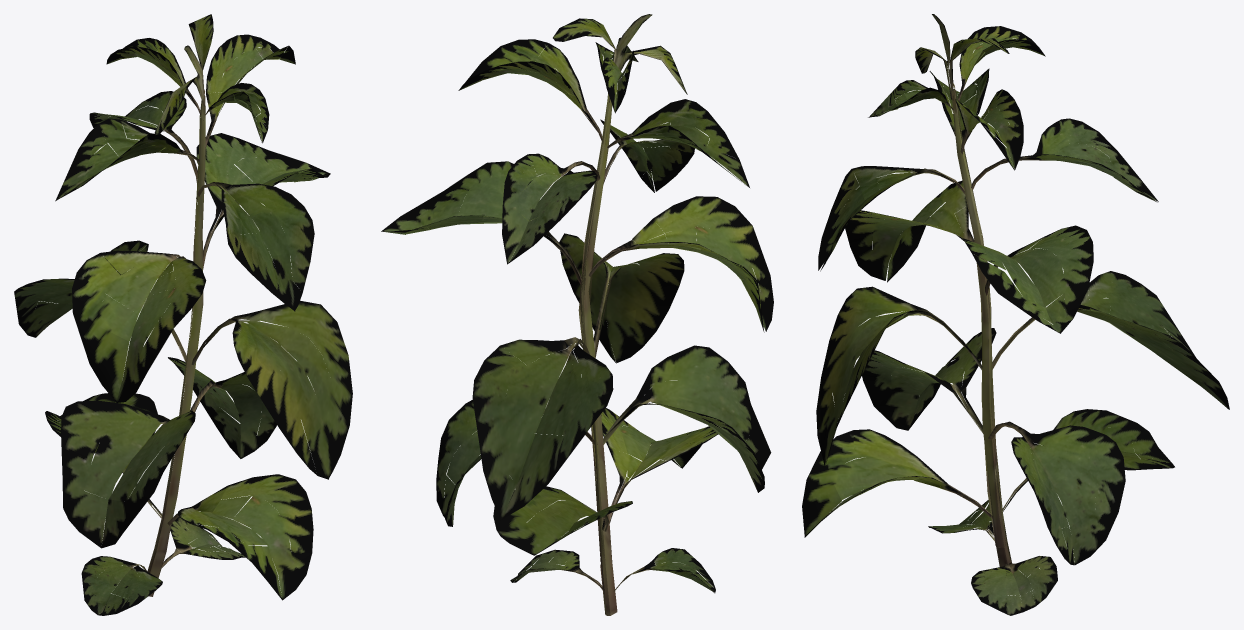
The model's file is nettle_plant_v1.glb.
3 renders of one model, left to right at view 1: azimuth 30°, elevation 25°; view 2: azimuth 150°, elevation 25°; view 3: azimuth 270°, elevation 25°, orthographic.
Parts seen in each view (by area): view 1: lod0; view 2: lod0; view 3: lod0.
Part boxes in pixels (<box>): lod0: <box>14,14,352,615</box>; lod0: <box>381,14,773,615</box>; lod0: <box>802,14,1229,615</box>.
Size of what is drawn, in the model's own units: 0.0775 by 0.1315 by 0.0893.
Materials: 1 (1 with a texture image).
